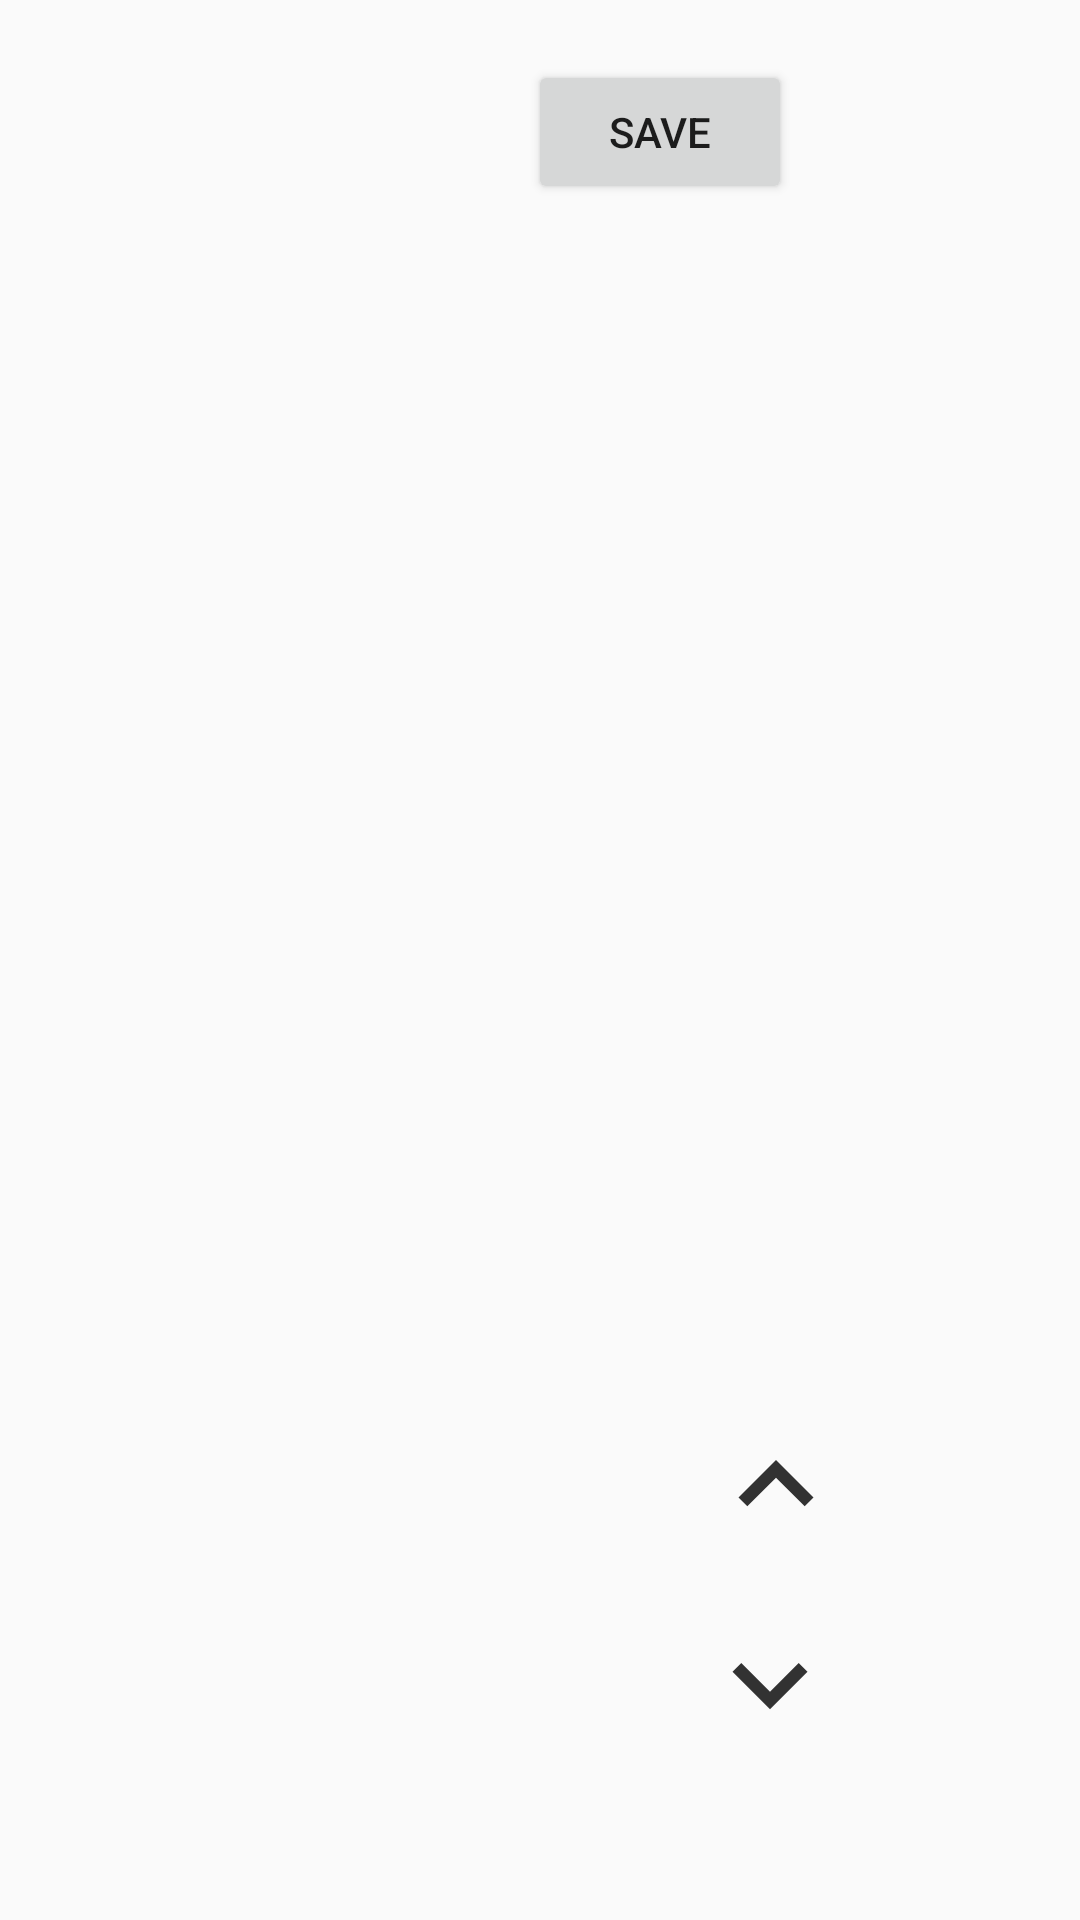

Point at icon controls on the screen. Image size 1080w x 1920h, points as (x,y).
arrow down: (770,1686)
arrow up: (776,1483)
